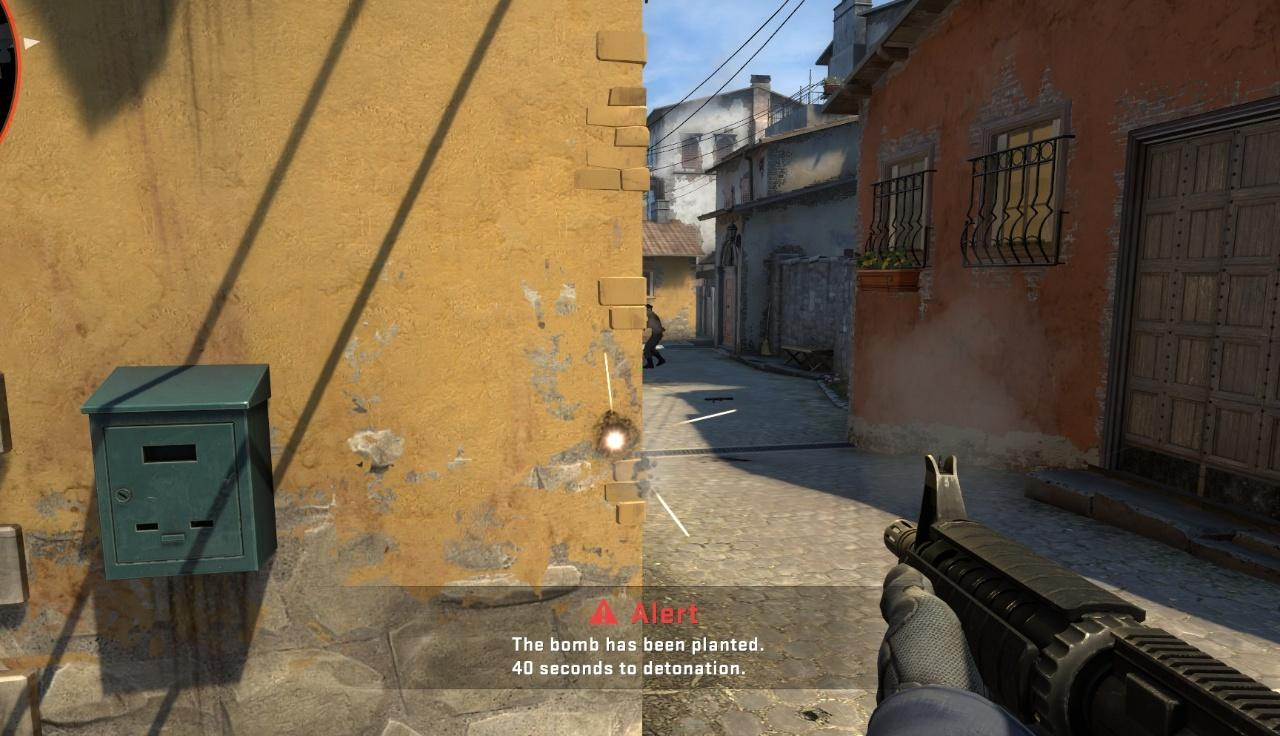rifle: (865, 454, 1279, 734)
tt: (643, 302, 665, 368)
tthead: (646, 302, 654, 314)
